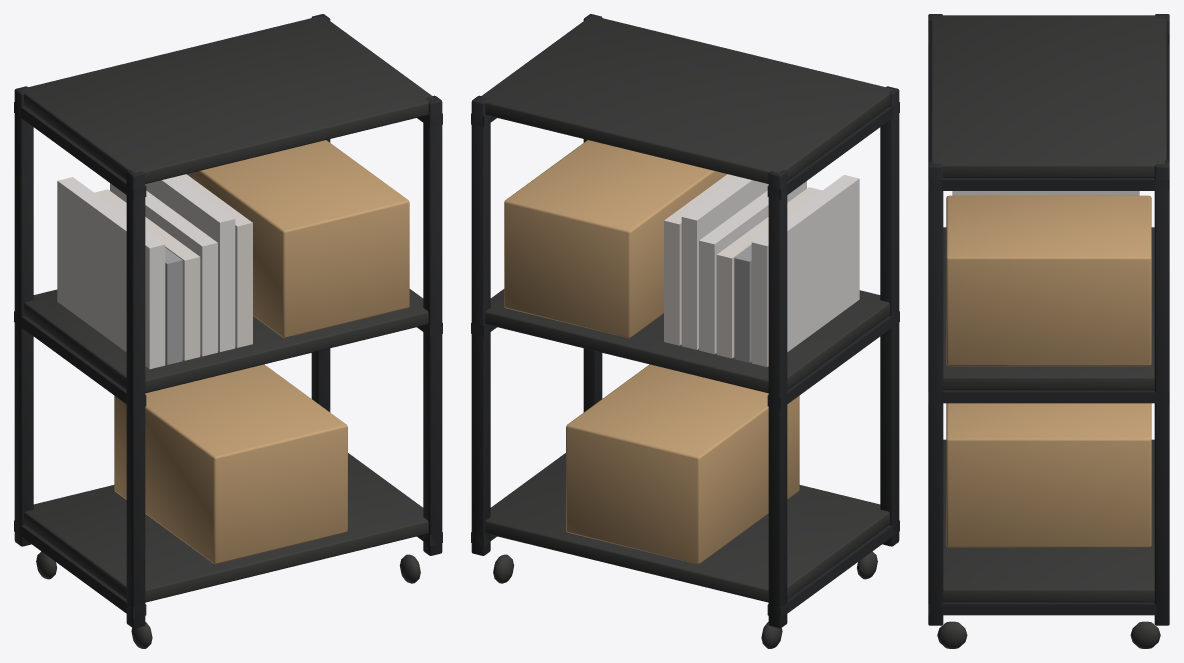
Rendered from utility.rolling-cart.glb.
3 views of the same model, side by side, from view 1: azimuth 30°, elevation 25°; view 2: azimuth 150°, elevation 25°; view 3: azimuth 270°, elevation 25° (orthographic).
Visible parts, largest first — view 1: utility.rolling-cart.001; view 2: utility.rolling-cart.001; view 3: utility.rolling-cart.001.
Boxes of the visible parts, left/top/right/bottom form: utility.rolling-cart.001: left=14, top=14, right=442, bottom=648; utility.rolling-cart.001: left=471, top=14, right=899, bottom=648; utility.rolling-cart.001: left=928, top=14, right=1169, bottom=648.
Bounding box in the file's own units: 0.6 × 0.9 × 0.4.
